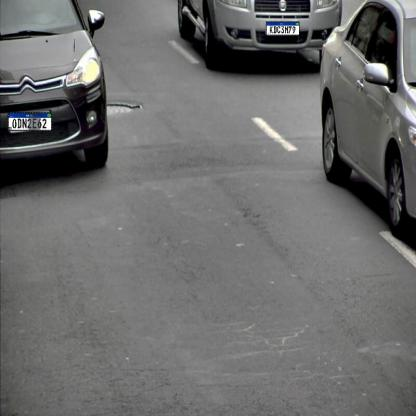PlacaM: (8, 112, 52, 131), (266, 22, 300, 36)
